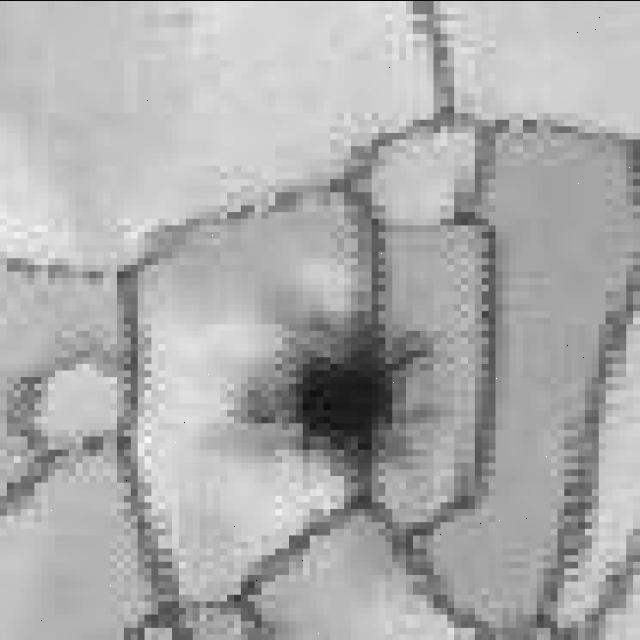good_void: (219, 305, 446, 490)
